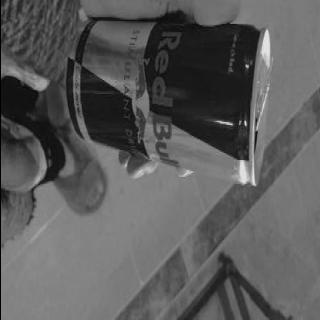alumunium_can: (64, 18, 272, 188)
